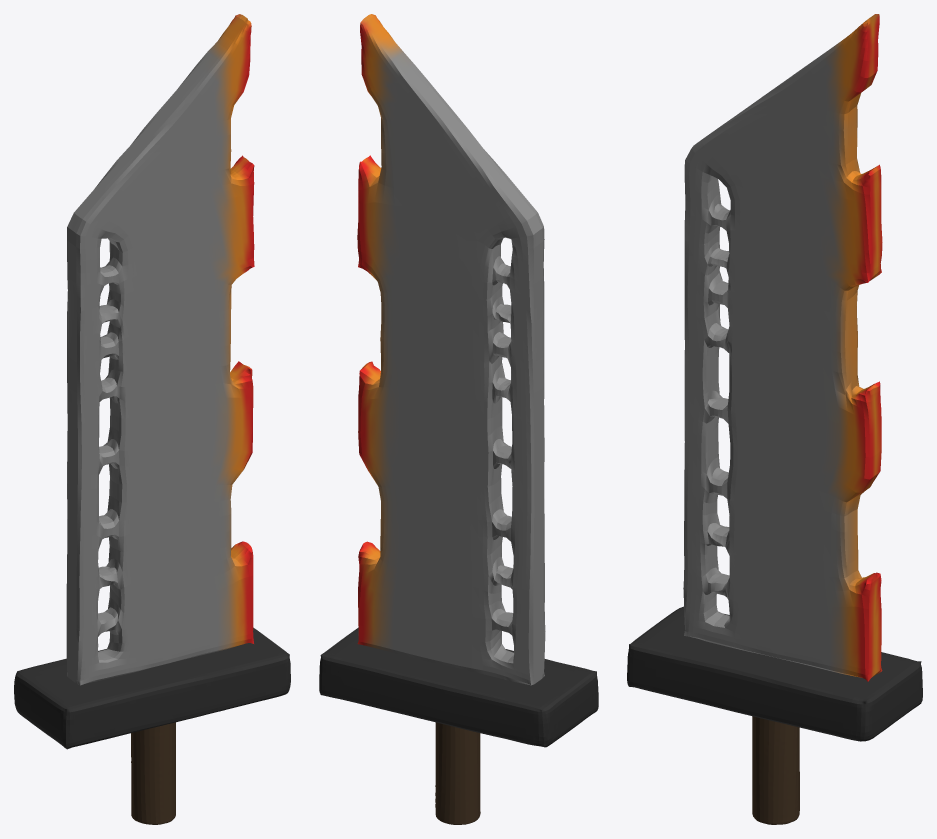
The model's file is Sword3.fbx.
The picture shows the model from 3 angles, left to right: view 1: azimuth 30°, elevation 25°; view 2: azimuth 150°, elevation 25°; view 3: azimuth 330°, elevation 25°; orthographic projection. The views are drawn at different scales.
Visible parts, largest first — view 1: Sword, Hilt, Handle; view 2: Sword, Hilt, Handle; view 3: Sword, Hilt, Handle.
Part boxes in pixels (x1,y1,x2,y2): Sword: (66,14,254,685); Hilt: (14,627,290,749); Handle: (131,722,175,824); Sword: (357,14,545,685); Hilt: (319,627,598,747); Handle: (435,722,480,824); Sword: (683,14,882,681); Hilt: (627,606,922,741); Handle: (752,716,799,824).
Size of the model in its own units: 1.49 by 4.84 by 0.6239.
Materials: 3 (3 with a texture image).
